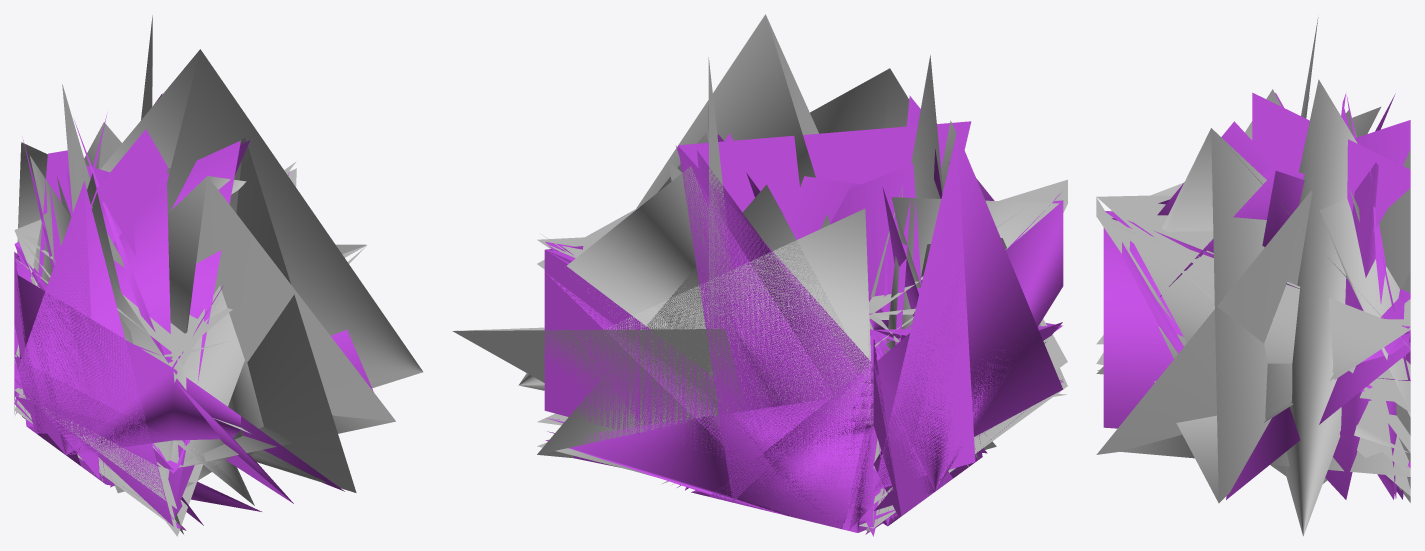
The model's file is cup.glb.
The picture shows the model from 3 angles, left to right: view 1: azimuth 30°, elevation 25°; view 2: azimuth 150°, elevation 25°; view 3: azimuth 270°, elevation 25°; orthographic projection. The views are drawn at different scales.
Size of the model in its own units: 0.5129 by 0.5129 by 0.4098.
